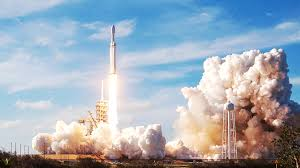ten_lua: (106, 23, 119, 76)
